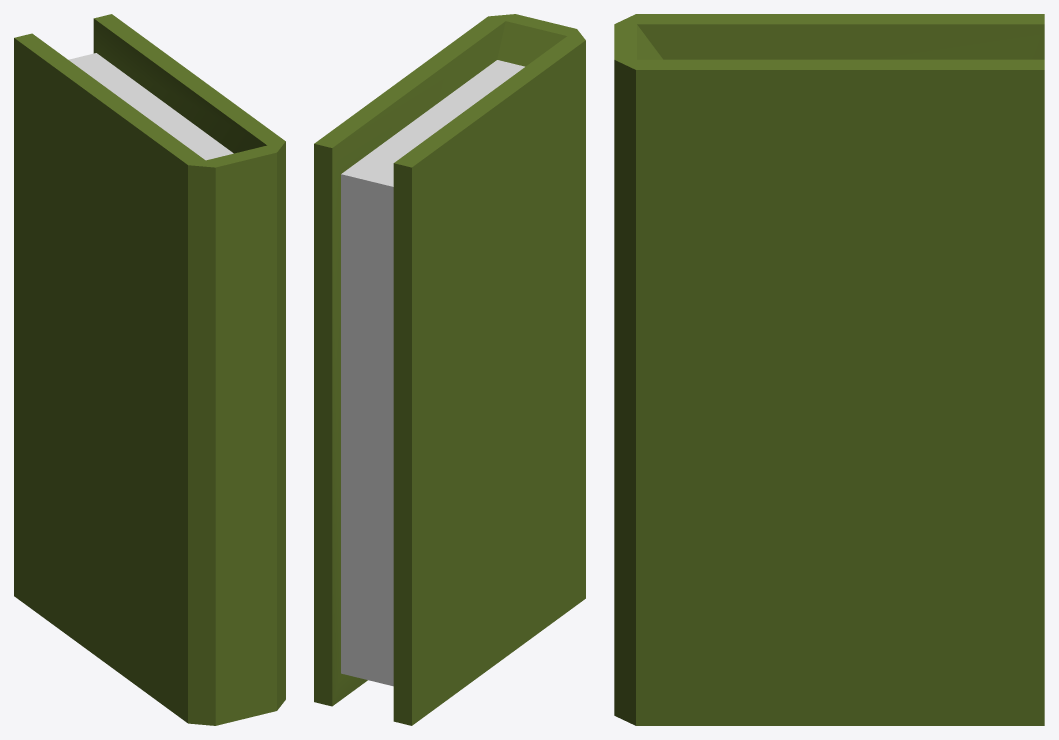
Rendered from misc_book2.fbx.
The picture shows the model from 3 angles, left to right: view 1: azimuth 30°, elevation 25°; view 2: azimuth 150°, elevation 25°; view 3: azimuth 270°, elevation 25°; orthographic projection. The views are drawn at different scales.
Parts seen in each view (by area): view 1: misc_book2; view 2: misc_book2; view 3: misc_book2.
Part boxes in pixels (bbox=[...]): misc_book2: bbox=[14, 14, 285, 725]; misc_book2: bbox=[314, 14, 585, 725]; misc_book2: bbox=[614, 14, 1044, 725].
Bounding box in the file's own units: 4.98 × 27.19 × 16.17.
